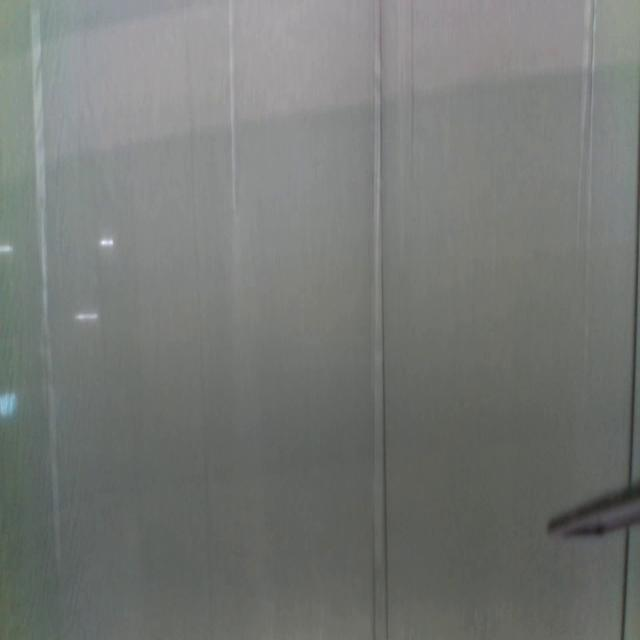crease: (183, 2, 216, 600), (30, 1, 63, 578), (372, 0, 390, 640), (628, 149, 640, 481), (574, 0, 589, 254), (586, 0, 596, 249), (230, 0, 240, 217), (408, 5, 416, 192), (619, 528, 631, 639)
